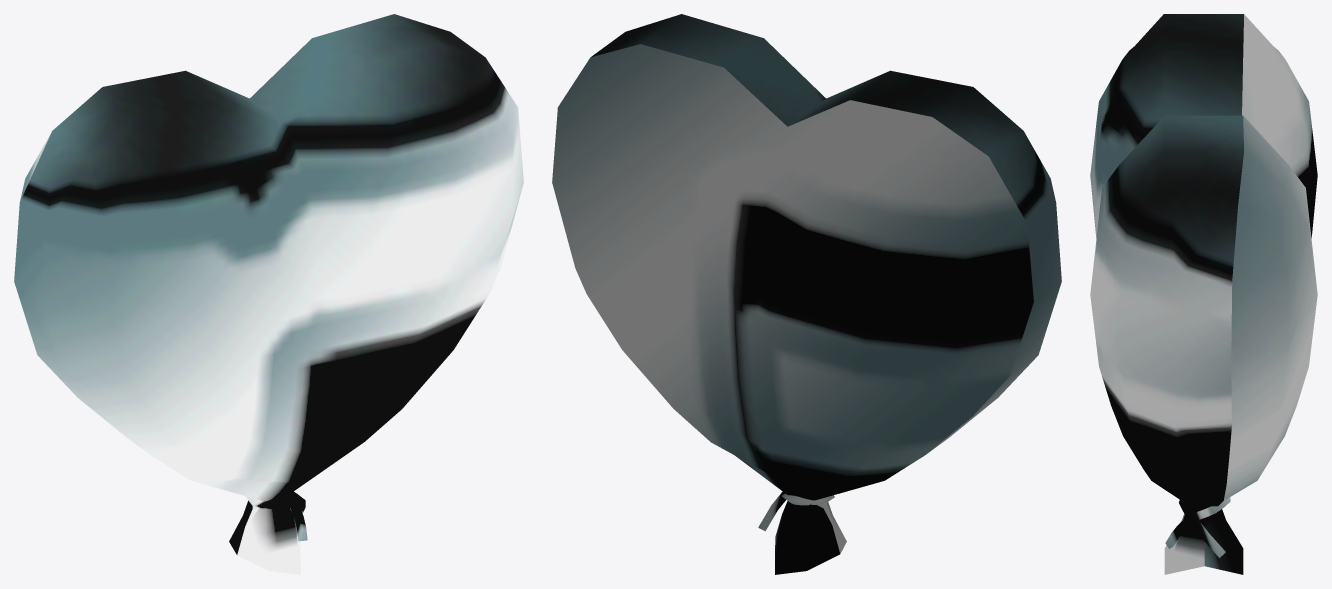
Rendered from icon.ico.obj.
3 renders of one model, left to right at view 1: azimuth 30°, elevation 25°; view 2: azimuth 150°, elevation 25°; view 3: azimuth 270°, elevation 25°, orthographic. The views are drawn at different scales.
Size of the model in its own units: 4.95 by 4.89 by 2.07.
